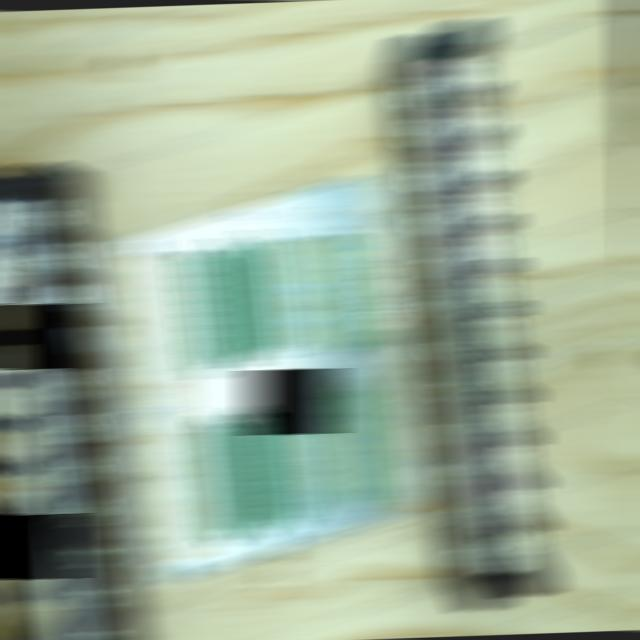Flathead_Block: (395, 18, 554, 610)
Terminal_1: (332, 386, 386, 506), (315, 233, 368, 352)
Terminal_2: (240, 235, 292, 350), (206, 244, 258, 358), (262, 409, 313, 522), (227, 419, 278, 532), (192, 428, 243, 541)
